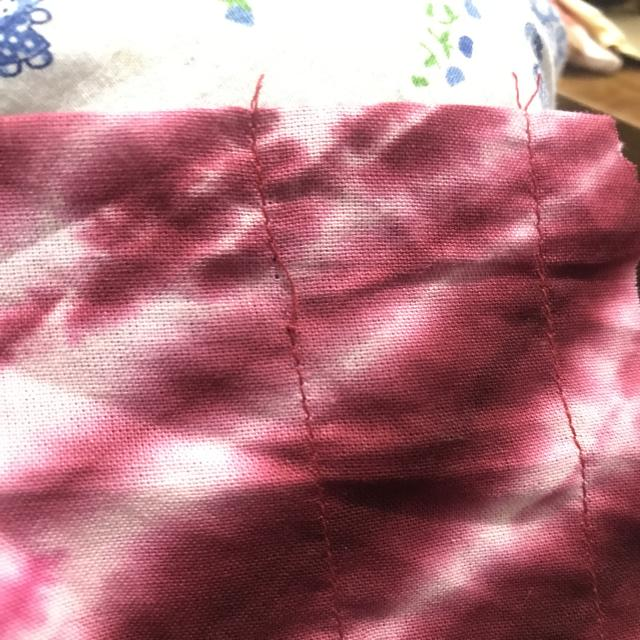good: (277, 380, 329, 476)
skip: (254, 244, 320, 350)
